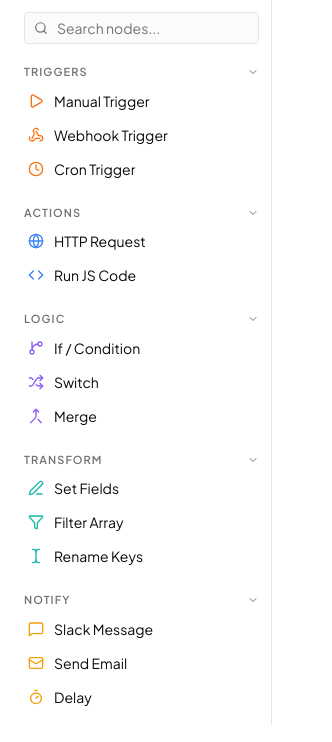
Scenario: NodePalette › collapses a group when its header is clicked
The image size is (332, 742).
Click the button "Triggers" at (142, 70), box [12,56,271,84]
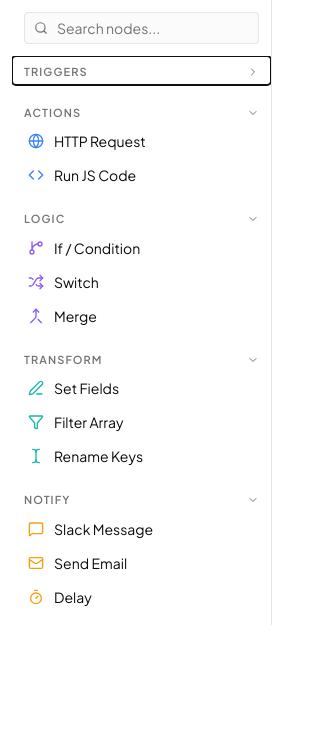
Now the text "Manual Trigger" is gone
Now the text "Webhook Trigger" is gone
